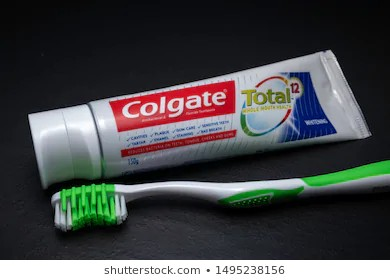colgate-total-150gm: (29, 33, 381, 186)
toothbrush: (45, 173, 389, 241)
